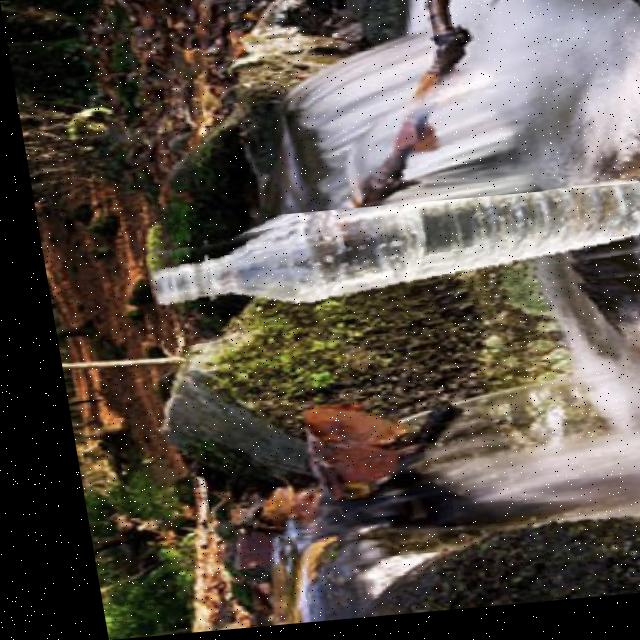plasticbottle: (132, 190, 640, 341)
